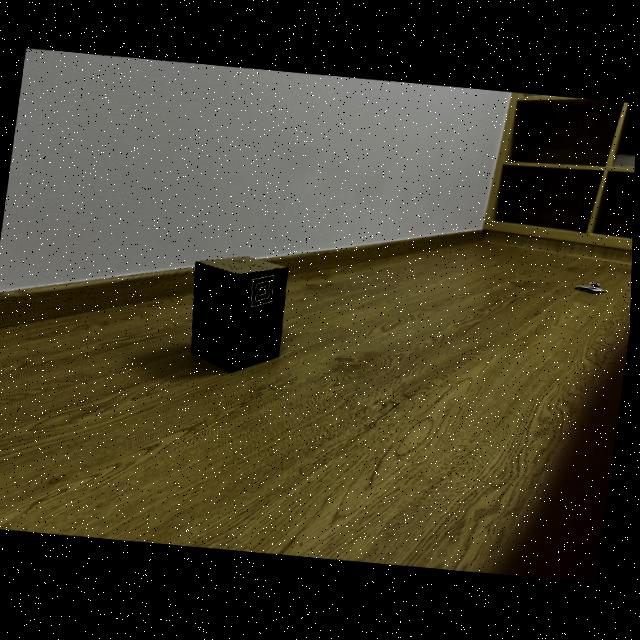BULLSEYE: (248, 269, 280, 314)
